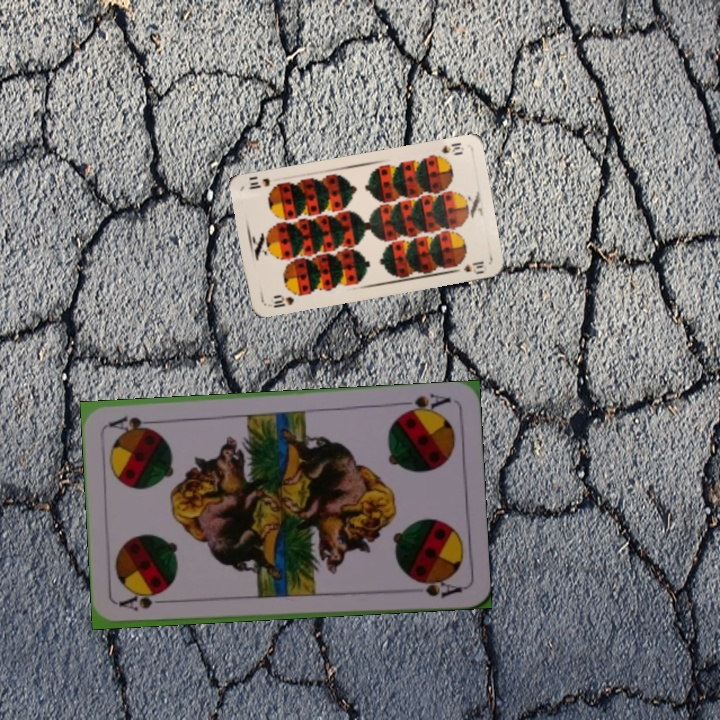S10: (429, 138, 466, 161), (269, 291, 296, 310)
SA: (395, 389, 453, 418), (115, 590, 175, 614)
